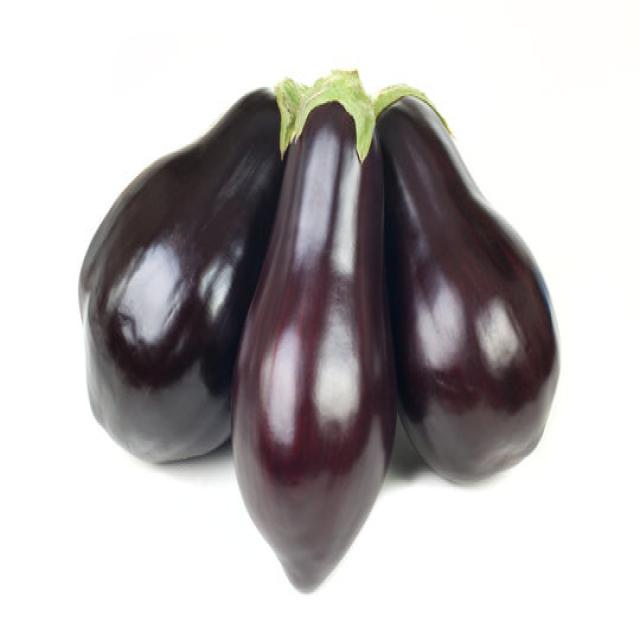Eggplant: (229, 67, 397, 594), (77, 84, 286, 464), (374, 86, 560, 486)
